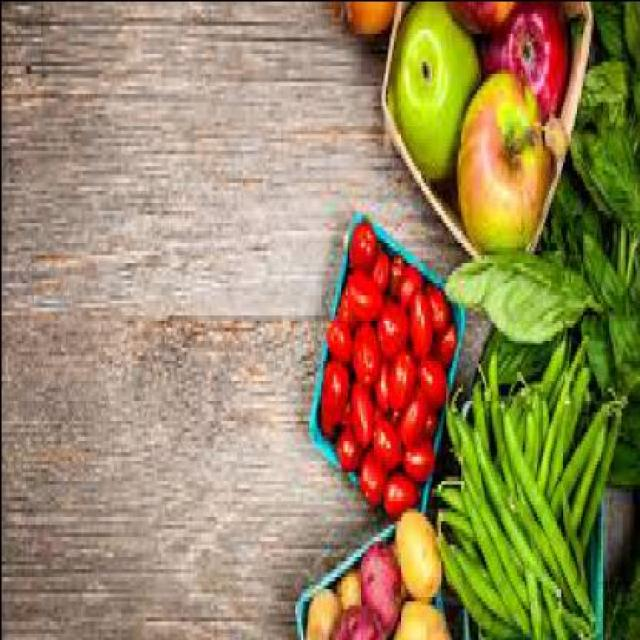BIODEGRADABLE: (482, 358, 590, 624), (449, 398, 556, 604), (442, 402, 526, 612), (453, 72, 545, 262), (536, 217, 638, 386), (382, 4, 475, 185), (499, 407, 578, 591), (438, 254, 588, 346), (477, 4, 566, 128), (432, 532, 533, 639), (459, 474, 527, 632), (552, 133, 638, 238), (439, 552, 546, 628), (550, 398, 618, 516), (565, 133, 638, 238), (536, 342, 582, 503), (582, 5, 638, 124), (578, 407, 618, 551), (474, 591, 591, 638), (475, 330, 548, 399), (563, 419, 602, 539), (355, 543, 397, 639), (391, 515, 438, 600), (602, 382, 638, 492), (483, 346, 509, 480), (600, 556, 640, 638), (434, 519, 480, 587), (576, 61, 626, 121), (602, 313, 638, 395), (467, 382, 487, 507), (325, 4, 392, 41), (386, 600, 446, 638), (548, 358, 563, 508), (527, 342, 564, 398), (320, 354, 346, 431), (386, 346, 412, 423), (444, 4, 510, 33), (342, 274, 378, 326), (380, 468, 414, 523), (372, 301, 406, 354), (590, 5, 622, 60), (326, 608, 383, 638), (302, 591, 338, 638), (397, 391, 425, 451), (356, 447, 382, 511), (415, 354, 442, 414), (350, 326, 376, 386), (422, 282, 448, 342), (564, 370, 584, 447), (371, 415, 398, 471), (346, 386, 368, 451), (404, 298, 424, 362), (400, 443, 431, 483), (345, 225, 372, 270), (324, 322, 350, 366), (535, 382, 548, 467), (370, 358, 388, 418), (334, 431, 358, 475), (332, 572, 356, 616), (622, 4, 638, 64), (395, 274, 416, 314), (433, 326, 453, 366), (366, 254, 386, 294), (435, 483, 462, 511), (335, 285, 350, 330), (522, 386, 530, 463), (315, 398, 330, 438), (384, 258, 398, 298), (418, 415, 431, 439)
